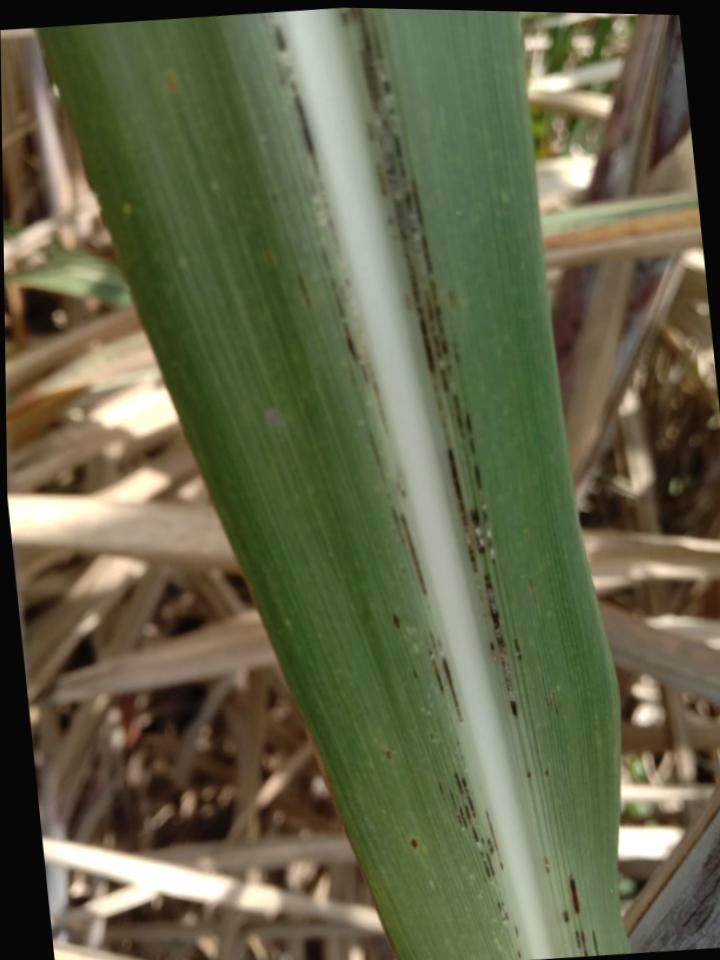Rust: (348, 8, 421, 304), (483, 571, 519, 717), (446, 447, 479, 571), (288, 78, 320, 176), (400, 513, 428, 597), (474, 463, 496, 564), (363, 353, 390, 435), (429, 372, 452, 448), (316, 180, 341, 249), (428, 277, 448, 356), (442, 655, 464, 722), (423, 287, 443, 359), (484, 808, 505, 872), (415, 305, 435, 372), (448, 789, 478, 829), (328, 277, 350, 319), (468, 506, 486, 555), (428, 649, 445, 694), (342, 320, 359, 362), (294, 273, 313, 309), (272, 57, 294, 88), (410, 180, 424, 228), (391, 506, 406, 544), (479, 849, 497, 880), (453, 393, 465, 438), (367, 431, 382, 466), (270, 24, 288, 53), (569, 875, 581, 915), (420, 234, 432, 274), (465, 411, 476, 453), (574, 929, 588, 955), (496, 900, 511, 924), (453, 770, 467, 795), (440, 364, 452, 393), (545, 690, 559, 714), (319, 248, 333, 271), (429, 631, 439, 656), (359, 362, 369, 384), (447, 288, 457, 309), (347, 364, 357, 385), (452, 339, 460, 365), (513, 637, 522, 660), (486, 836, 495, 858), (470, 825, 480, 843), (489, 640, 497, 662), (592, 929, 599, 954), (397, 481, 407, 498), (339, 11, 348, 28), (543, 856, 551, 874), (408, 837, 420, 849), (437, 780, 445, 797), (384, 749, 393, 762), (404, 294, 411, 310), (562, 910, 570, 923), (393, 613, 400, 627), (529, 578, 535, 594), (514, 924, 519, 939), (524, 770, 533, 778), (412, 669, 419, 678), (464, 787, 471, 794), (437, 638, 442, 647), (517, 950, 522, 958), (430, 732, 435, 740), (545, 769, 550, 776), (481, 837, 484, 844)
